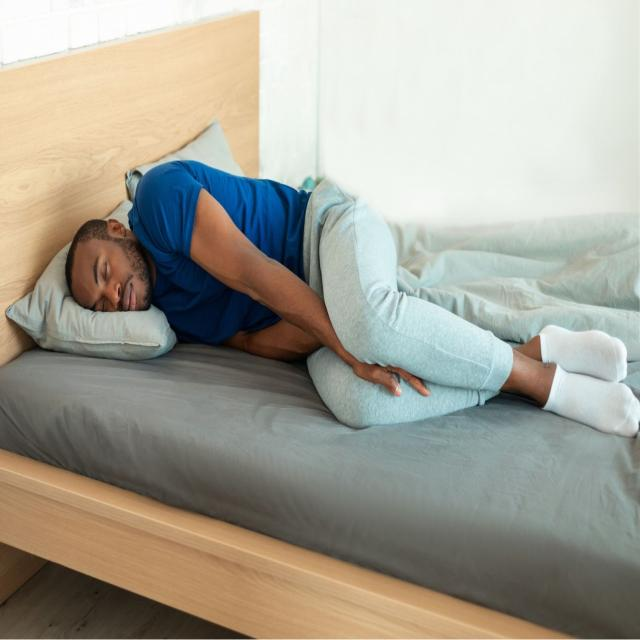sleeping-person: (50, 134, 640, 449)
